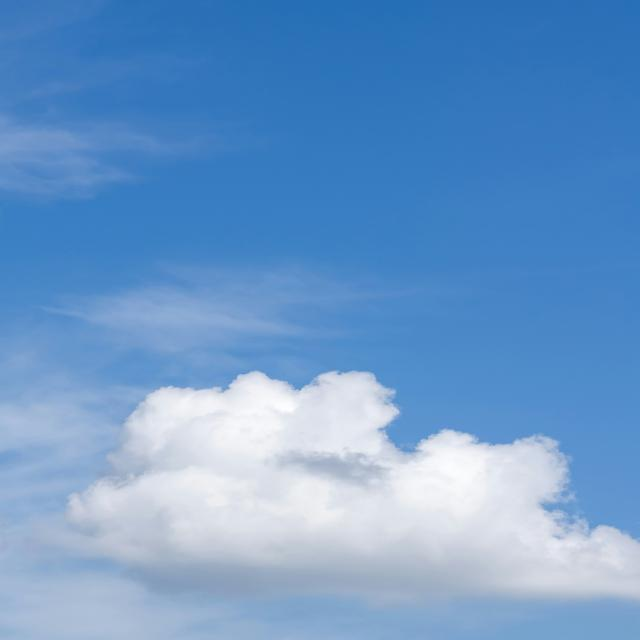cumulus: (81, 364, 640, 593)
